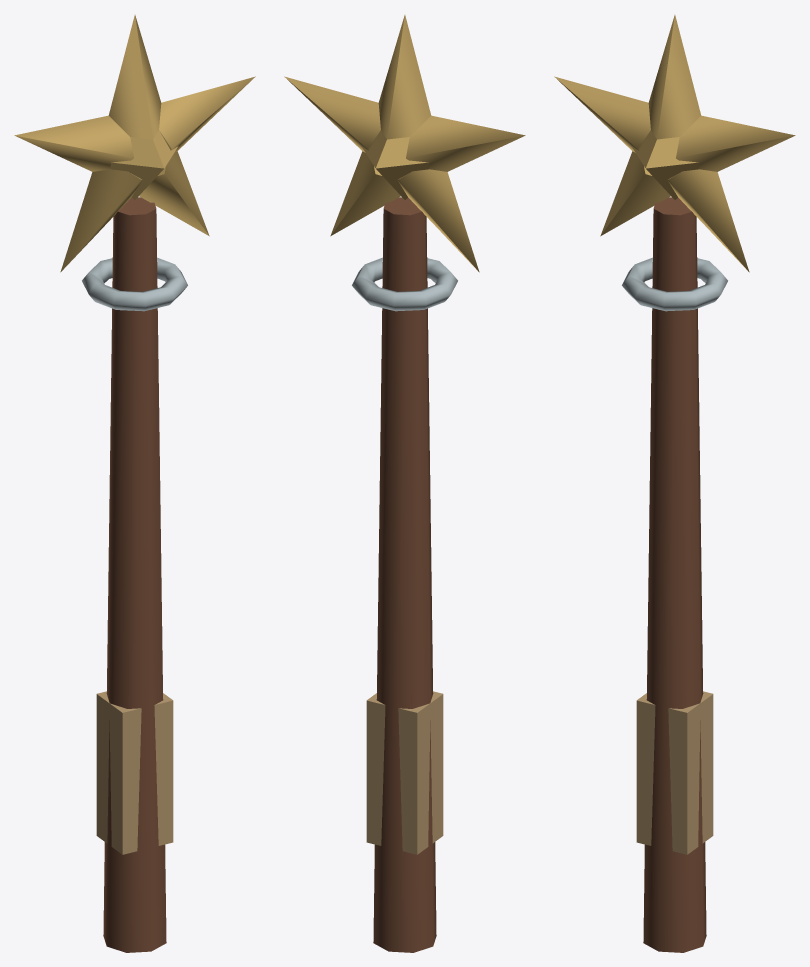
The model's file is fixed-staff.glb.
3 views of the same model, side by side, from view 1: azimuth 30°, elevation 25°; view 2: azimuth 150°, elevation 25°; view 3: azimuth 330°, elevation 25° (orthographic).
Visible parts, largest first — view 1: piece_whole; view 2: piece_whole; view 3: piece_whole.
Part boxes in pixels (x1,y1,x2,y2): piece_whole: (14, 15, 255, 952); piece_whole: (284, 15, 525, 952); piece_whole: (554, 15, 795, 952).
Bounding box in the file's own units: 0.428 × 1.56 × 0.18.
